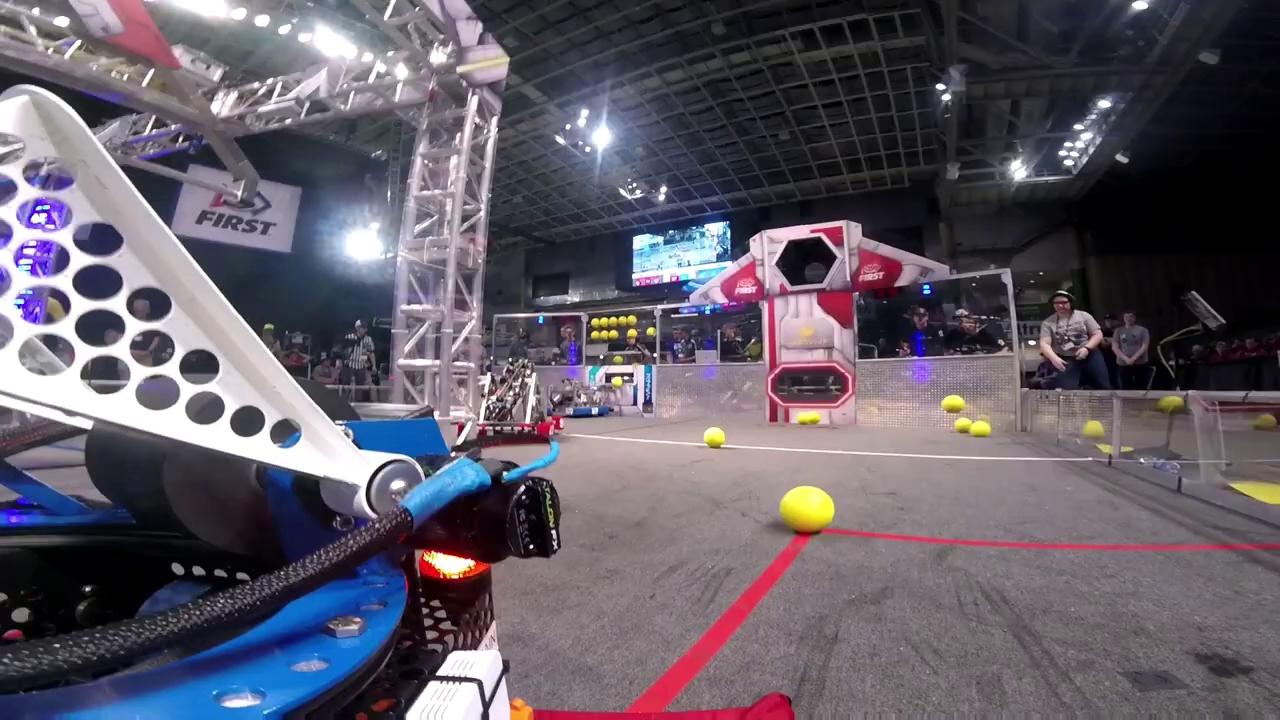robot: (473, 358, 566, 439), (545, 379, 613, 418)
